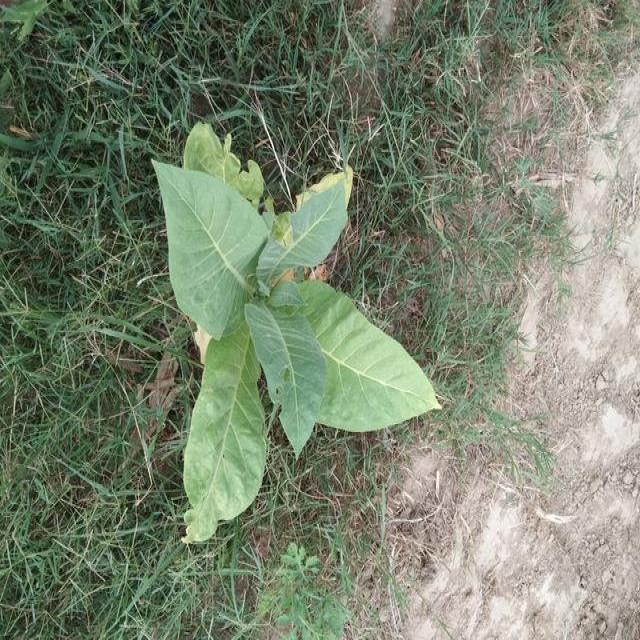crop: (142, 96, 446, 547)
